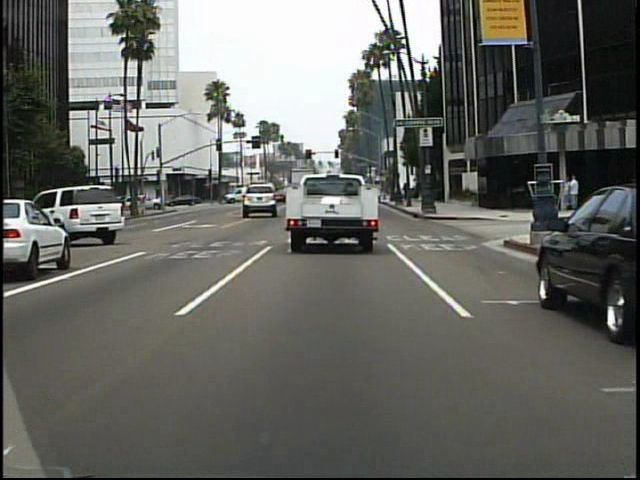person: (567, 171, 583, 212), (558, 174, 572, 215), (156, 189, 169, 214)
